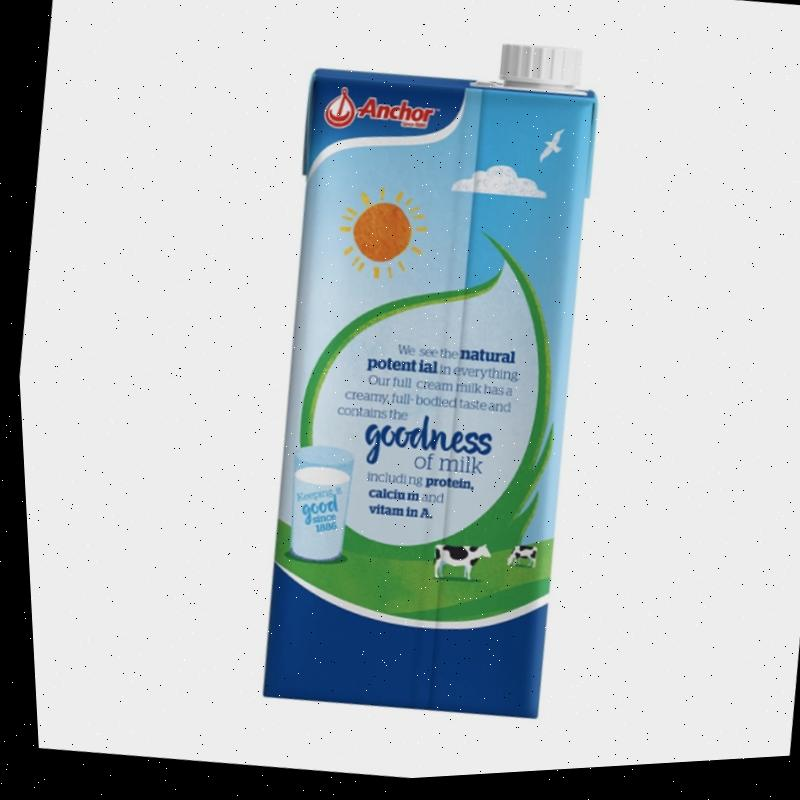uht carton: (264, 45, 601, 721)
